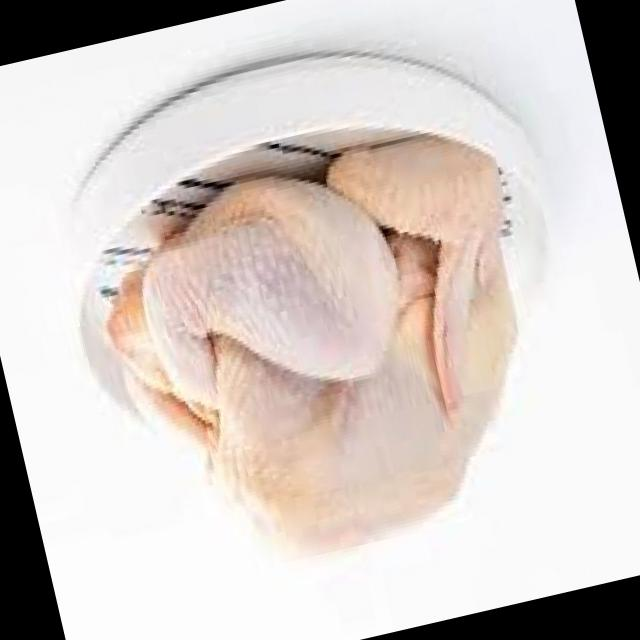chicken: (71, 112, 584, 609)
